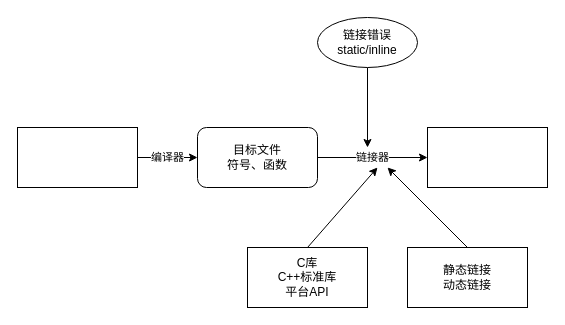
Image size: 565x325. Some labels were removed from this diagram. Here are the shapes that lost their labels. From the top down, the centre of each, then its label:
At (77,157): "源码文件".
At (487,157): "可执行程序".
